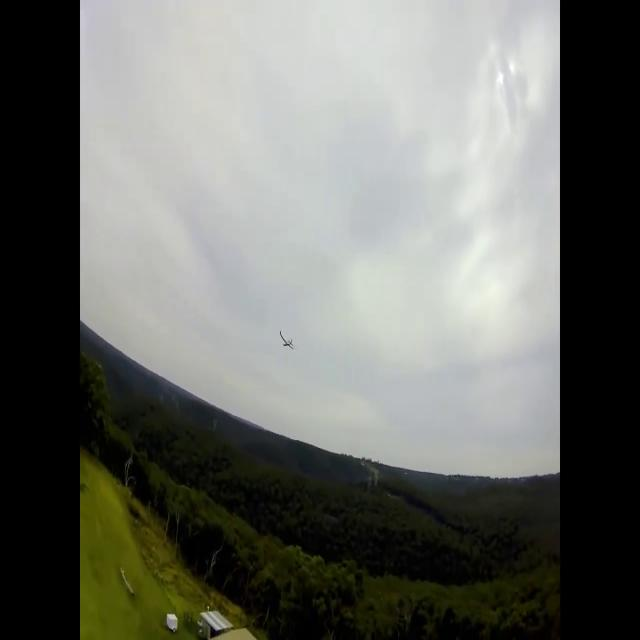iha: (280, 334, 295, 350)
